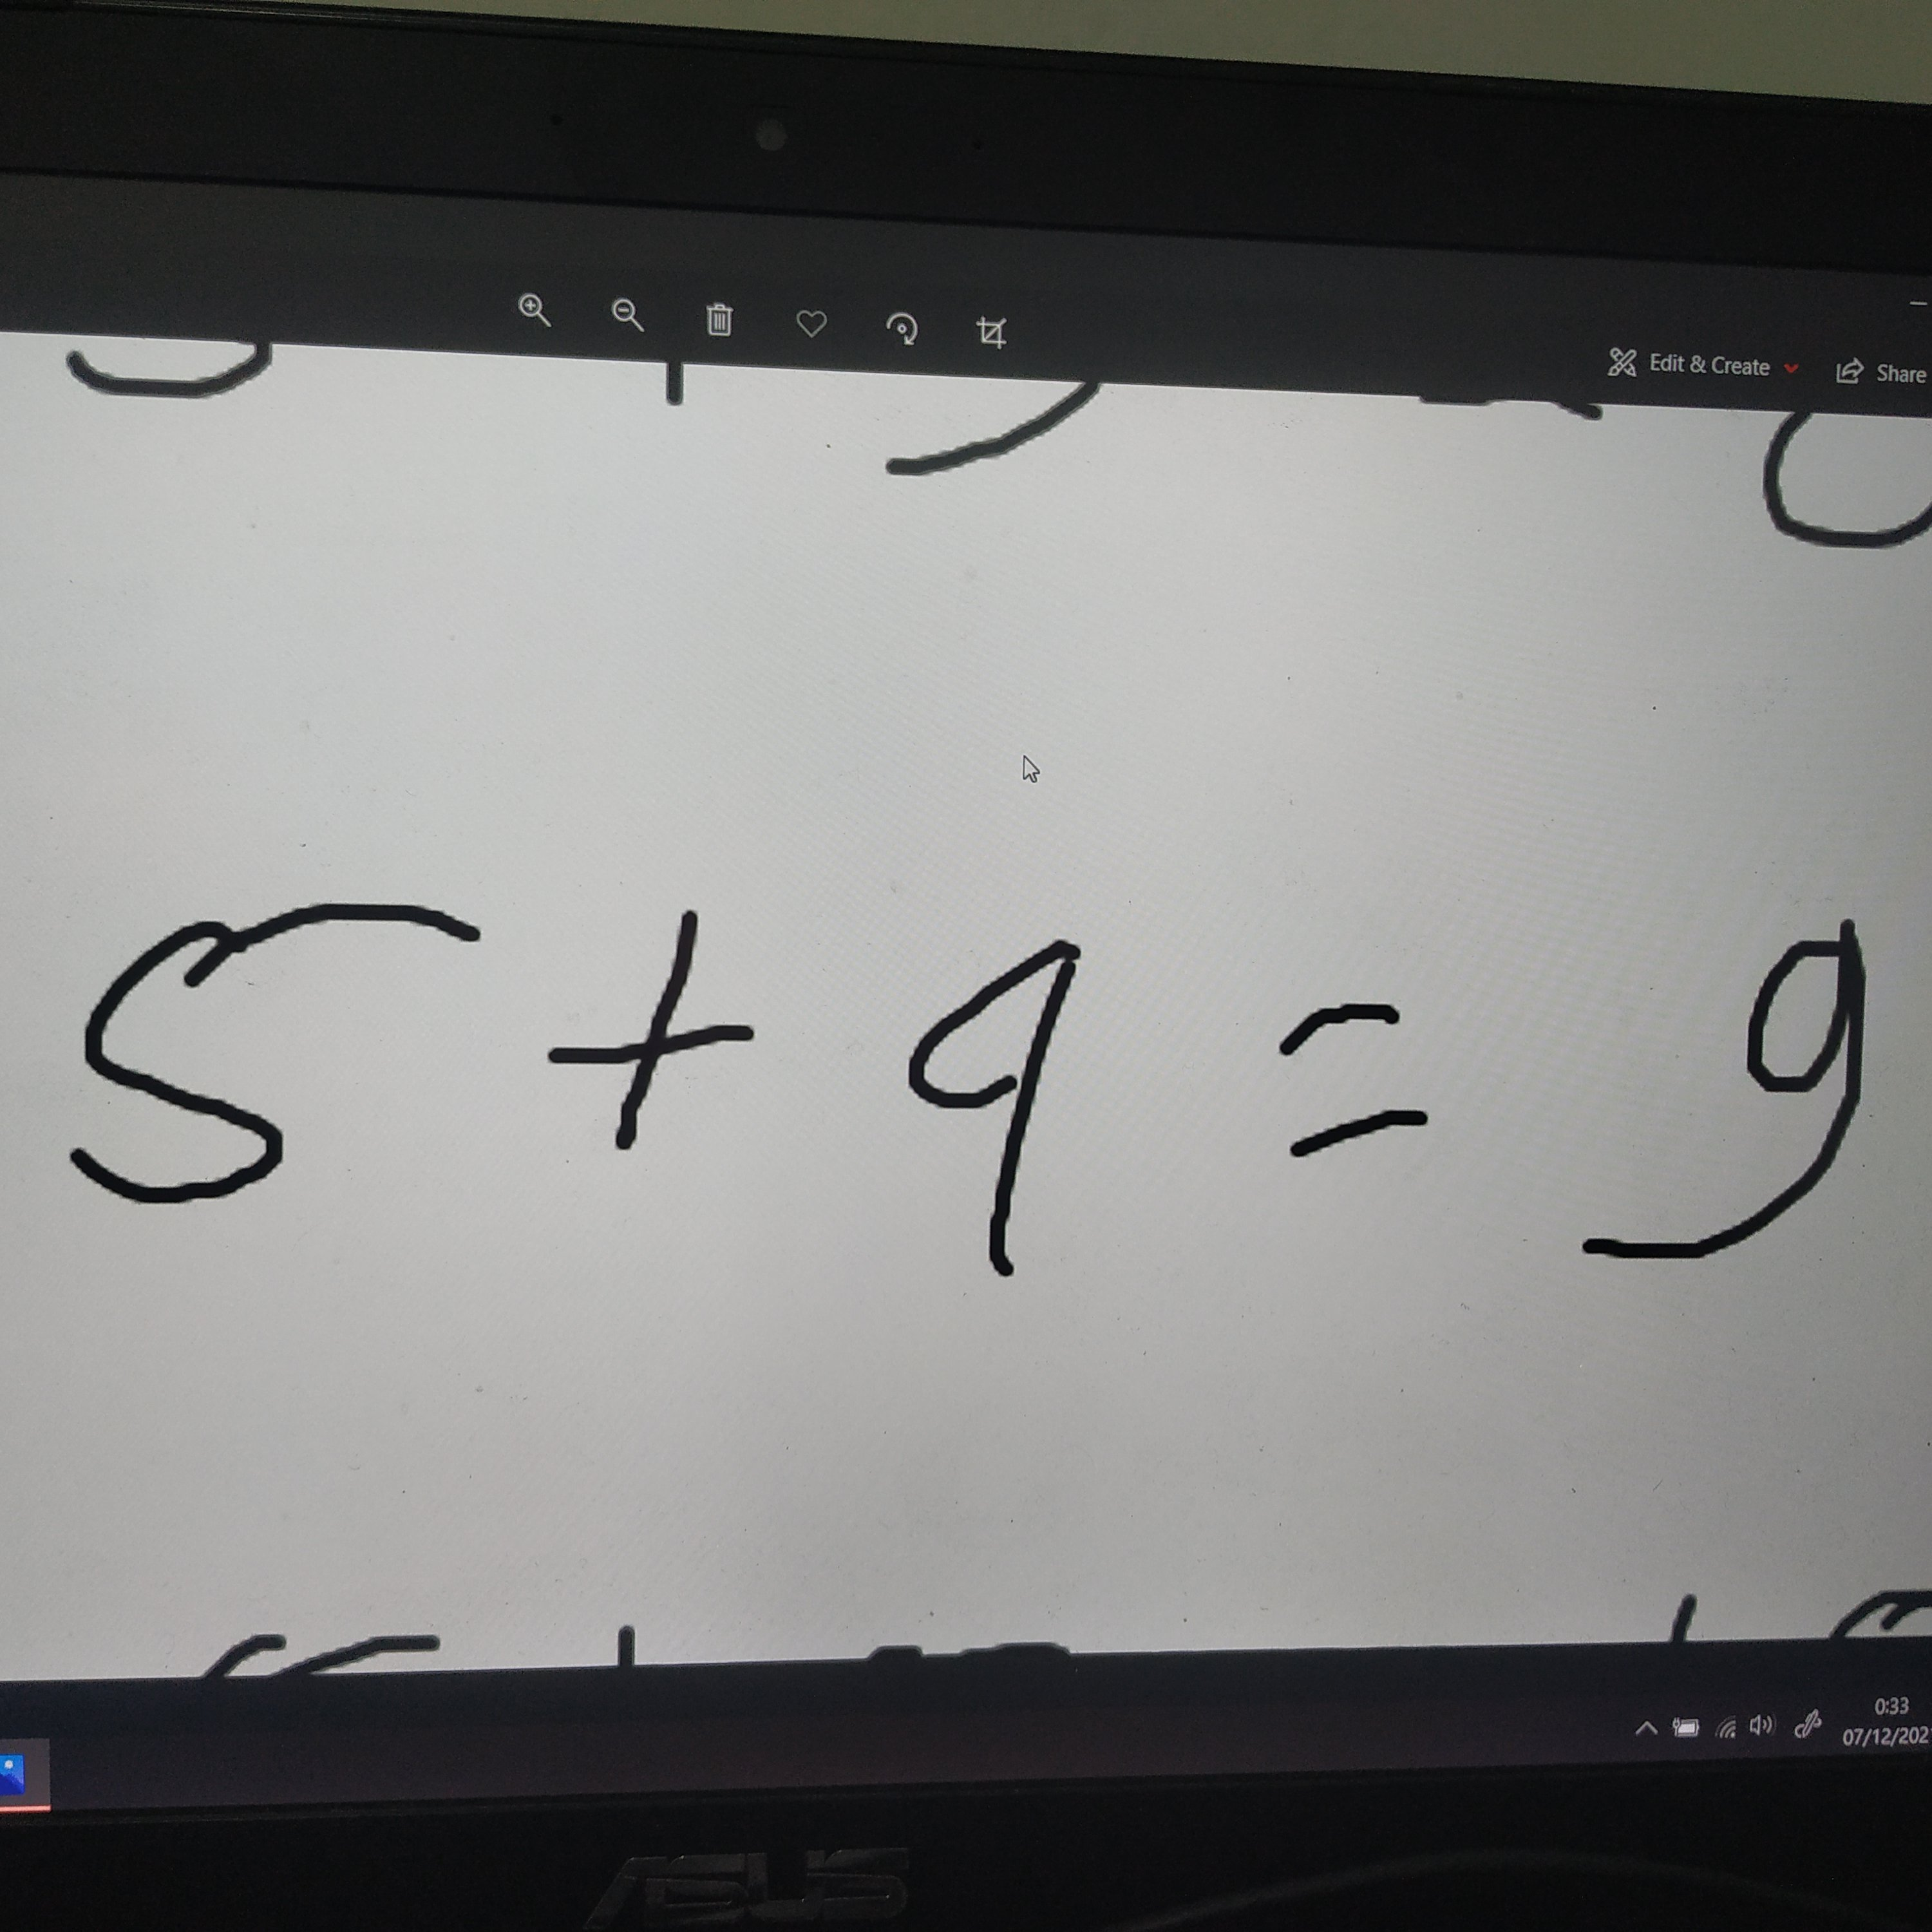equal: (1262, 985, 1463, 1180)
num4: (875, 939, 1101, 1292)
num5: (42, 895, 516, 1240)
num9: (1563, 910, 1880, 1280)
sum: (533, 899, 779, 1171)
